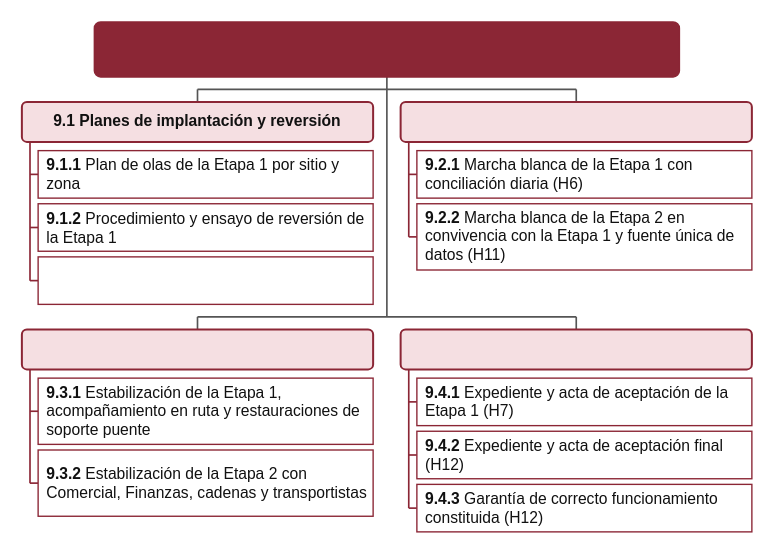
Some shapes in this 775 by 555 pixel diagram are drawn without their labels. The centre of each missing label's shape, as x and y in pixels:
"9. Implantación y usuarios habilitados (1 de 2)" goes at point 386,48.
"9.1.3 Plan de implantación y reversión de la Etapa 2" goes at point 205,280.
"9.2 Marcha blanca" goes at point 575,121.
"9.3 Estabilización" goes at point 197,349.
"9.4 Aceptación y paso a producción" goes at point 575,349.
